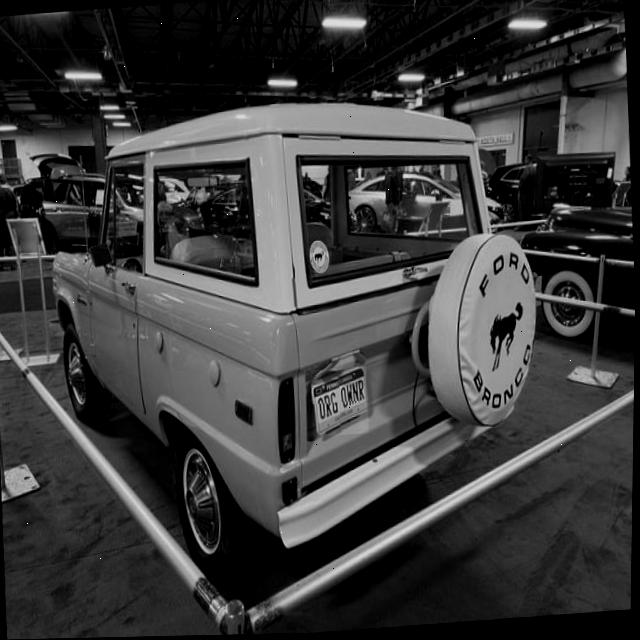LicensePlate: (313, 368, 369, 438)
